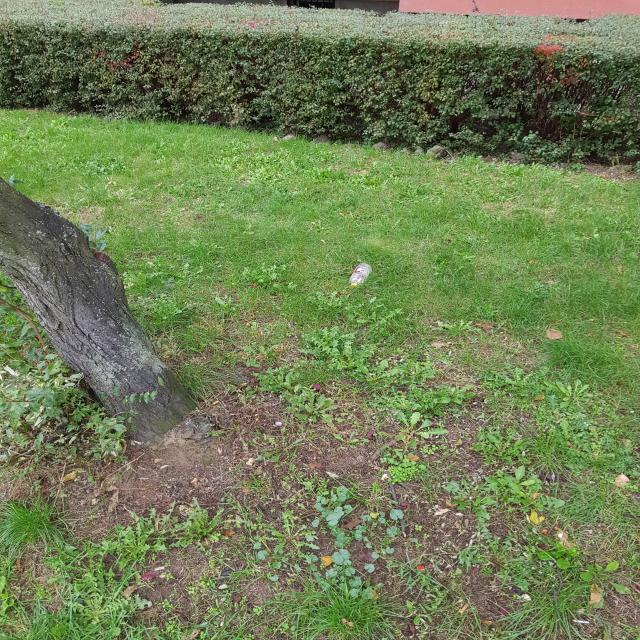rubbish: (349, 200, 383, 219)
